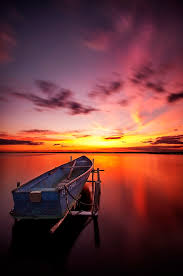boat: (11, 155, 94, 222)
